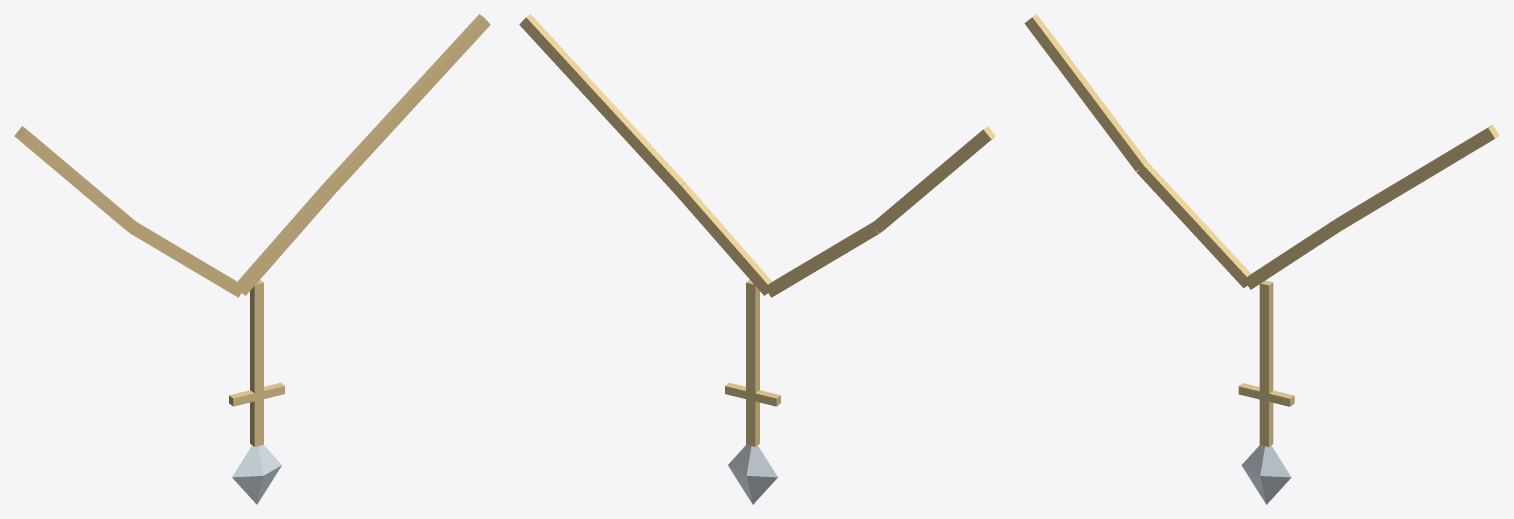
The model's file is lariat-necklace.safe.glb.
The picture shows the model from 3 angles, left to right: view 1: azimuth 30°, elevation 25°; view 2: azimuth 150°, elevation 25°; view 3: azimuth 330°, elevation 25°; orthographic projection.
Parts seen in each view (by area): view 1: safe-lariat-necklace; view 2: safe-lariat-necklace; view 3: safe-lariat-necklace.
Part boxes in pixels (box(x1,y1,x2,y2)): safe-lariat-necklace: box(14, 14, 490, 504); safe-lariat-necklace: box(519, 14, 995, 504); safe-lariat-necklace: box(1024, 14, 1499, 504).
Size of the model in its own units: 1.1 by 0.9651 by 0.051.
